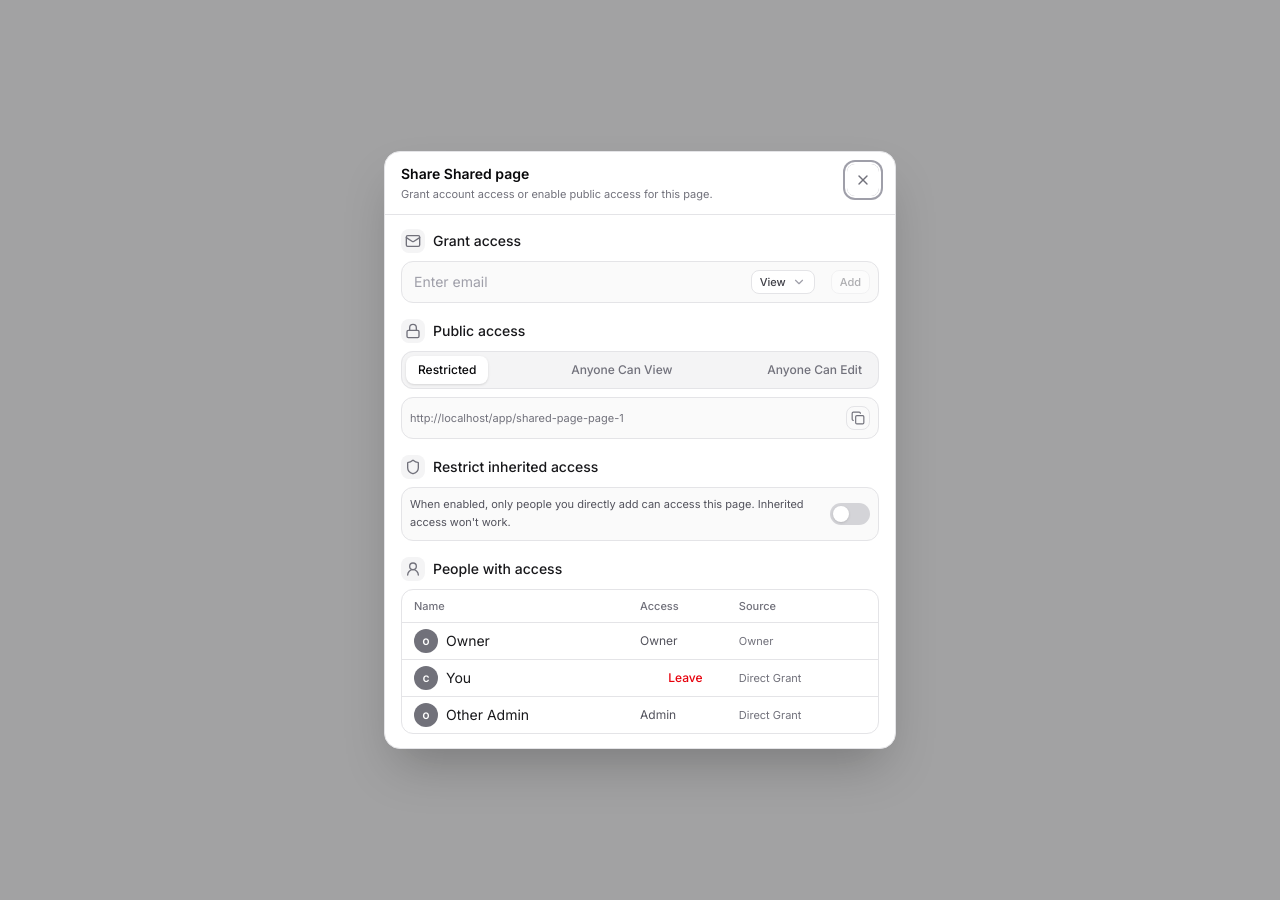
Test: ShareDialog admin self-removal › keeps leave confirmation inside the share modal focus scope
Click the button "Leave" at (685,678), box [640,670,731,686]
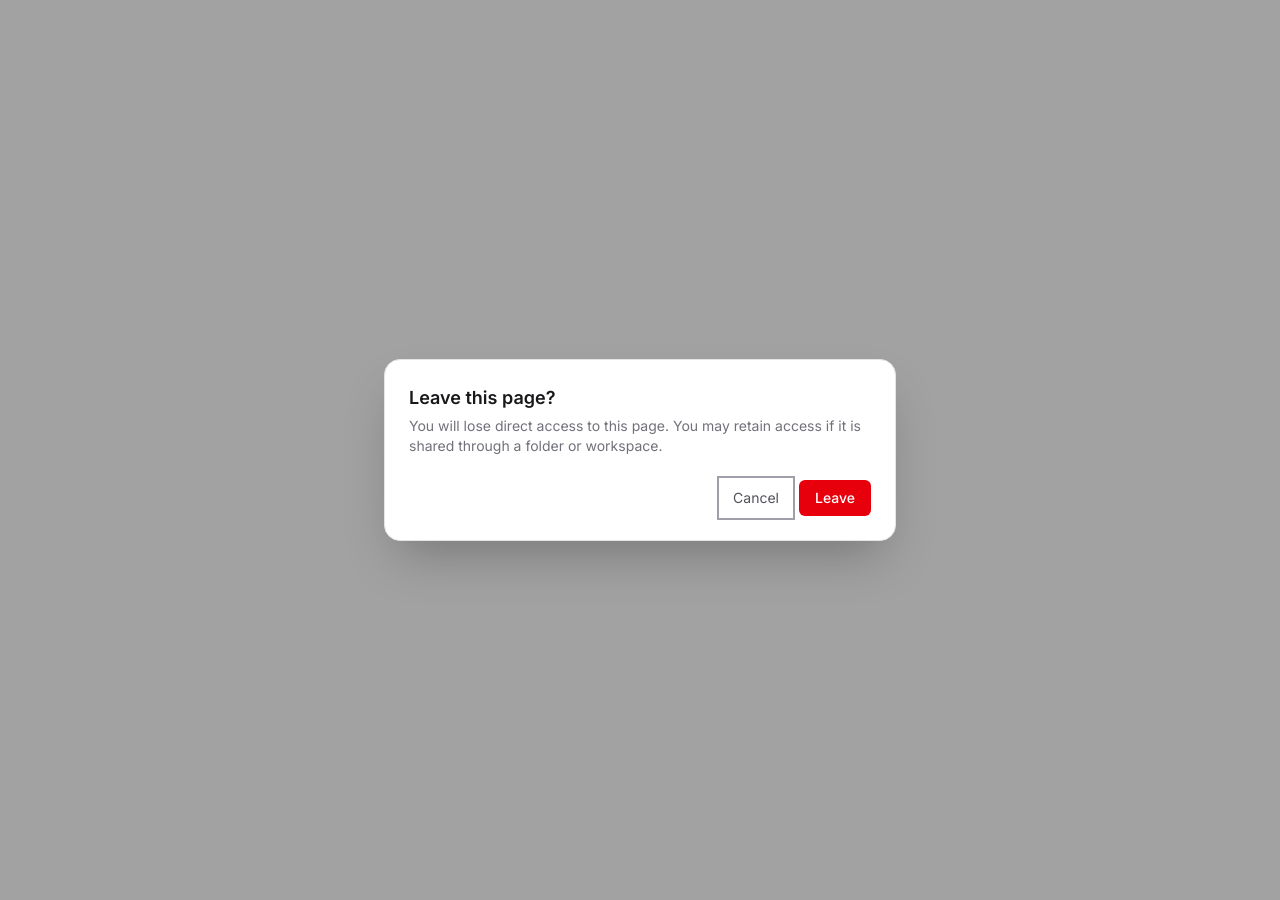
Expected: the dialog "Leave this page?" is shown, [385,360,895,540]
Press Escape
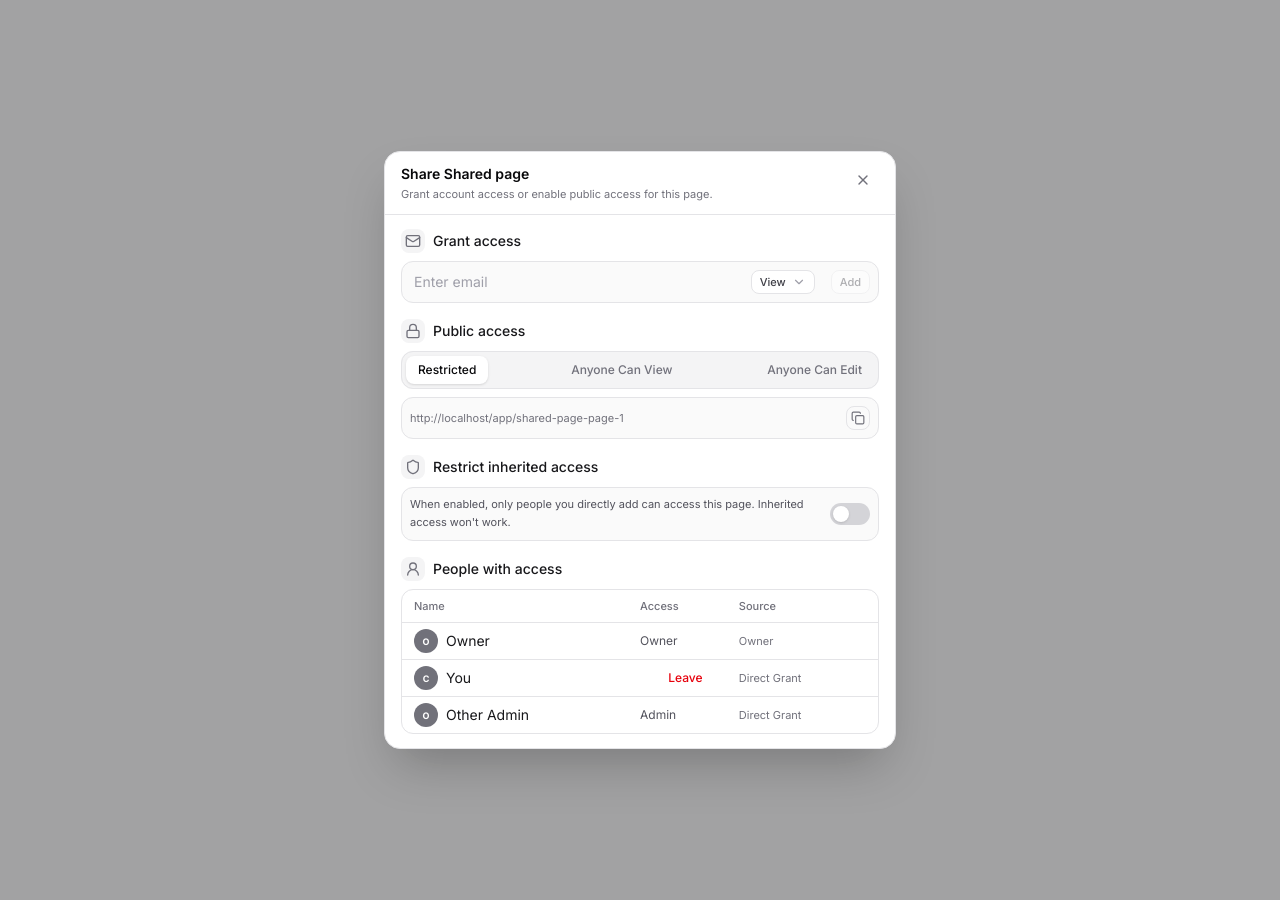
Expected: the heading "Leave this page?" is gone
Expected: the dialog "Share Shared page" is shown, [384,151,896,749]
